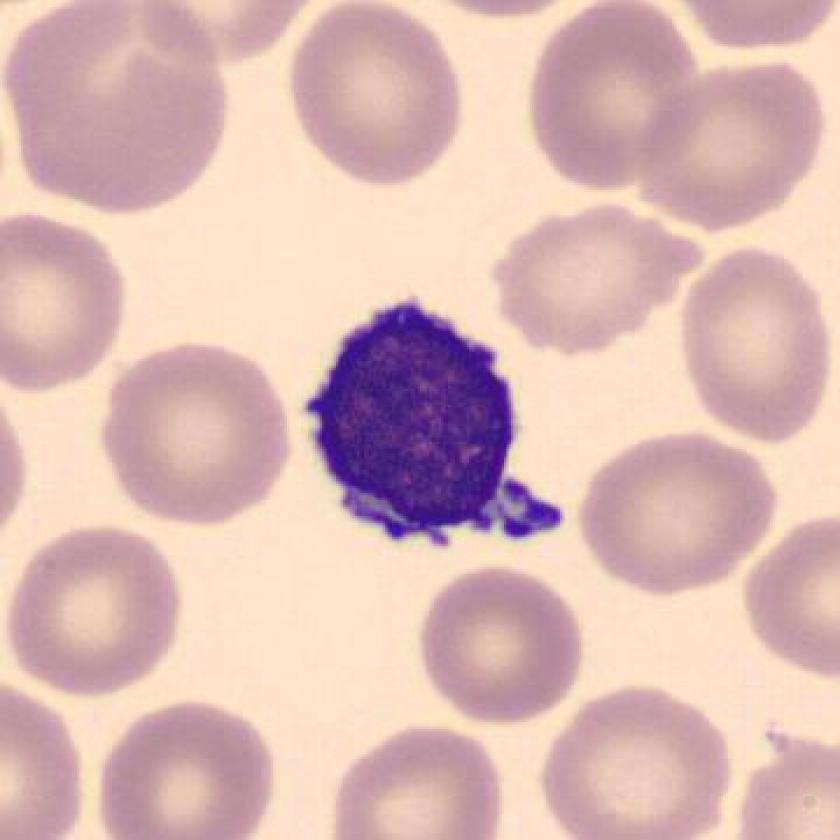lymphocyte: (302, 288, 582, 575)
